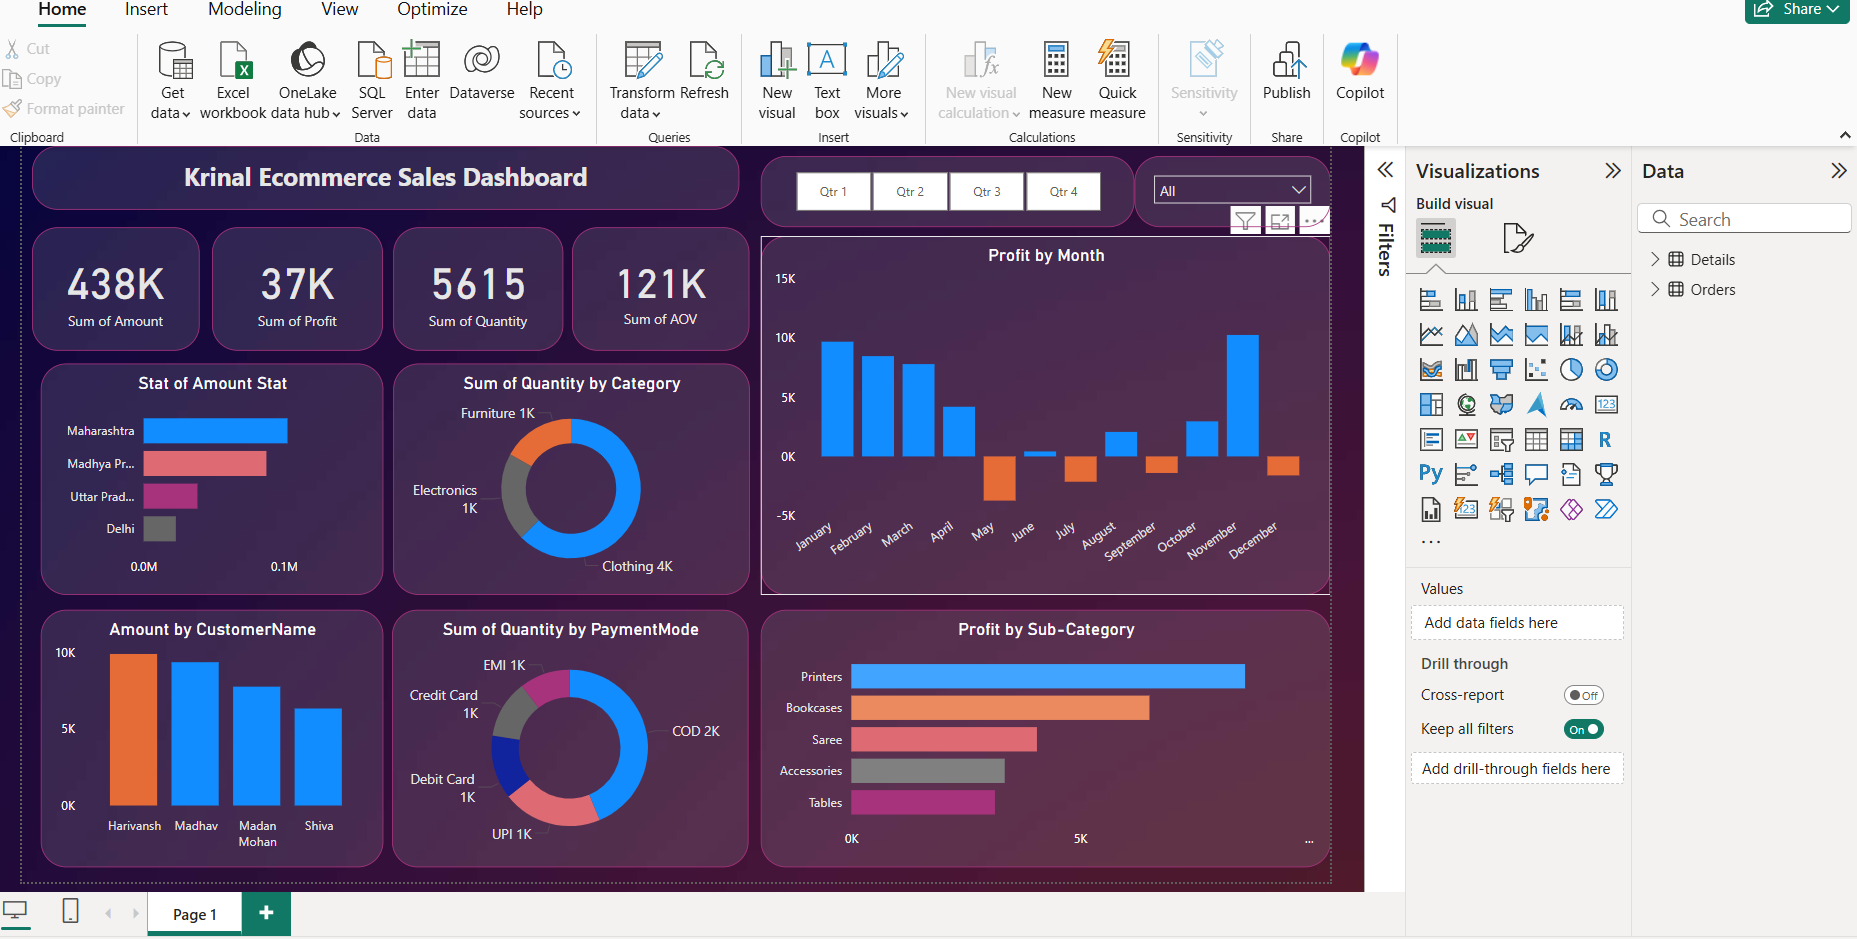

This screenshot's page, from the dashboard's own definition file:
{"tool":"powerbi","page":{"name":"Page 1","canvas":[1280,720],"ordinal":0},"visuals":[{"type":"textbox","box":[9.8,0,692.1,62.4],"z":0},{"type":"columnChart","title":"Profit by Month","fields":{"Y":["Details.Profit"],"Category":["Orders.Order Date.Variation.Date Hierarchy.Month"]},"box":[722.7,88,557.6,351],"z":1000},{"type":"barChart","title":"Profit by Sub-Category","fields":{"Category":["Details.Sub-Category"],"Y":["Details.Profit"]},"box":[722.7,453.7,557.6,251.9],"z":2000},{"type":"donutChart","fields":{"Category":["Details.Category"],"Y":["Details.Quantity"]},"box":[363.2,212.8,348.5,226.2],"z":3000},{"type":"donutChart","fields":{"Category":["Details.PaymentMode"],"Y":["Details.Quantity"]},"box":[362,453.7,348.5,251.9],"z":4000},{"type":"card","fields":{"Values":["Details.Amount"]},"box":[9.8,79.5,163.9,121.1],"z":5000},{"type":"card","fields":{"Values":["Details.Quantity"]},"box":[363.2,79.5,166.3,121.1],"z":6000},{"type":"card","fields":{"Values":["Details.Profit"]},"box":[185.9,79.5,167.5,121.1],"z":7000},{"type":"card","fields":{"Values":["Details.AOV"]},"box":[538,79.5,173.6,121.1],"z":8000},{"type":"barChart","title":"Stat of Amount Stat","fields":{"Category":["Orders.State"],"Y":["Details.Amount"]},"box":[18.3,212.8,335.1,226.2],"z":9000},{"type":"columnChart","title":"Amount by CustomerName","fields":{"Category":["Orders.CustomerName"],"Y":["Details.Amount"]},"box":[18.3,453.7,335.1,251.9],"z":10000},{"type":"slicer","fields":{"Values":["Orders.Order Date.Variation.Date Hierarchy.Quarter"]},"box":[722.7,9.8,365.6,69.7],"z":11001},{"type":"slicer","fields":{"Values":["Orders.State"]},"box":[1088.3,9.8,192,69.7],"z":11002}]}

Visuals, with their boxes on the page's 1280x720 design canvas (x1, y1, x2, y2). These are canvas units, not pixel positions in the 1857x939 screenshot, which may show the page scaled, cropped or inside an application window:
textbox: Rect(10, 0, 702, 62)
"Profit by Month" columnChart: Rect(723, 88, 1280, 439)
"Profit by Sub-Category" barChart: Rect(723, 454, 1280, 706)
donutChart - Details.Category x Details.Quantity: Rect(363, 213, 712, 439)
donutChart - Details.PaymentMode x Details.Quantity: Rect(362, 454, 710, 706)
card - Details.Amount: Rect(10, 80, 174, 201)
card - Details.Quantity: Rect(363, 80, 530, 201)
card - Details.Profit: Rect(186, 80, 353, 201)
card - Details.AOV: Rect(538, 80, 712, 201)
"Stat of Amount Stat" barChart: Rect(18, 213, 353, 439)
"Amount by CustomerName" columnChart: Rect(18, 454, 353, 706)
slicer - Orders.Order Date.Variation.Date Hierarchy.Quarter: Rect(723, 10, 1088, 80)
slicer - Orders.State: Rect(1088, 10, 1280, 80)
